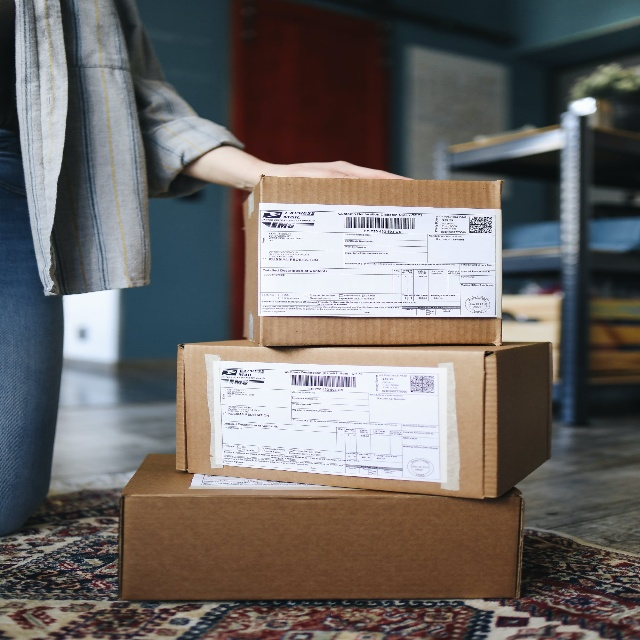Sin_guantes: (267, 154, 412, 181)
